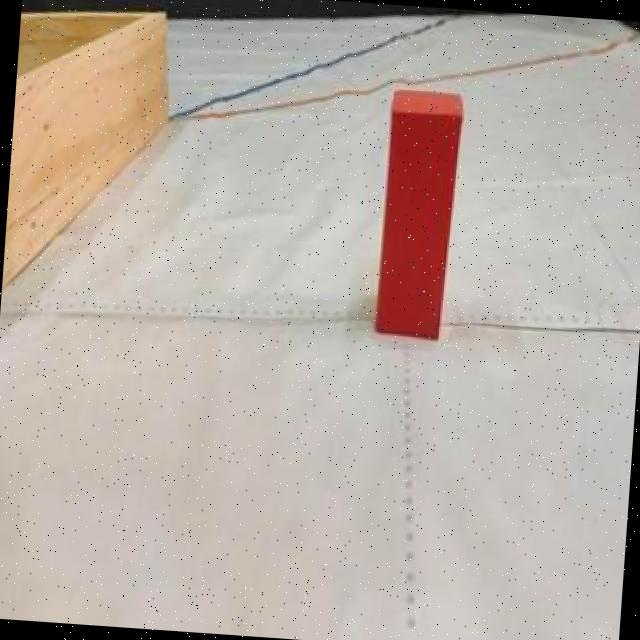redbox: (374, 85, 464, 344)
